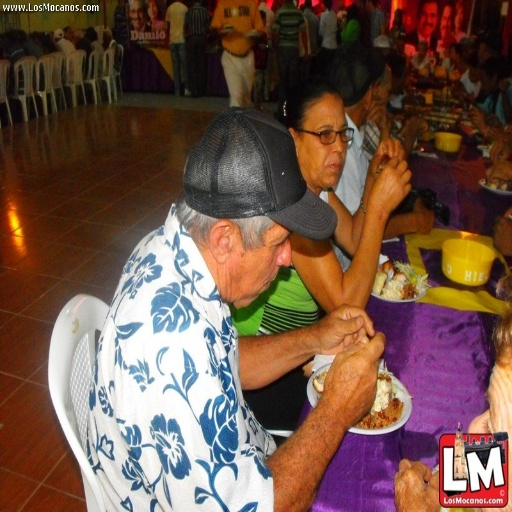hand: (319, 328, 387, 427), (315, 300, 375, 354), (392, 458, 441, 510), (366, 135, 406, 185), (490, 215, 511, 256), (483, 159, 511, 182), (366, 97, 387, 125), (488, 141, 510, 162), (469, 105, 484, 135), (487, 128, 506, 141), (408, 116, 419, 128)
